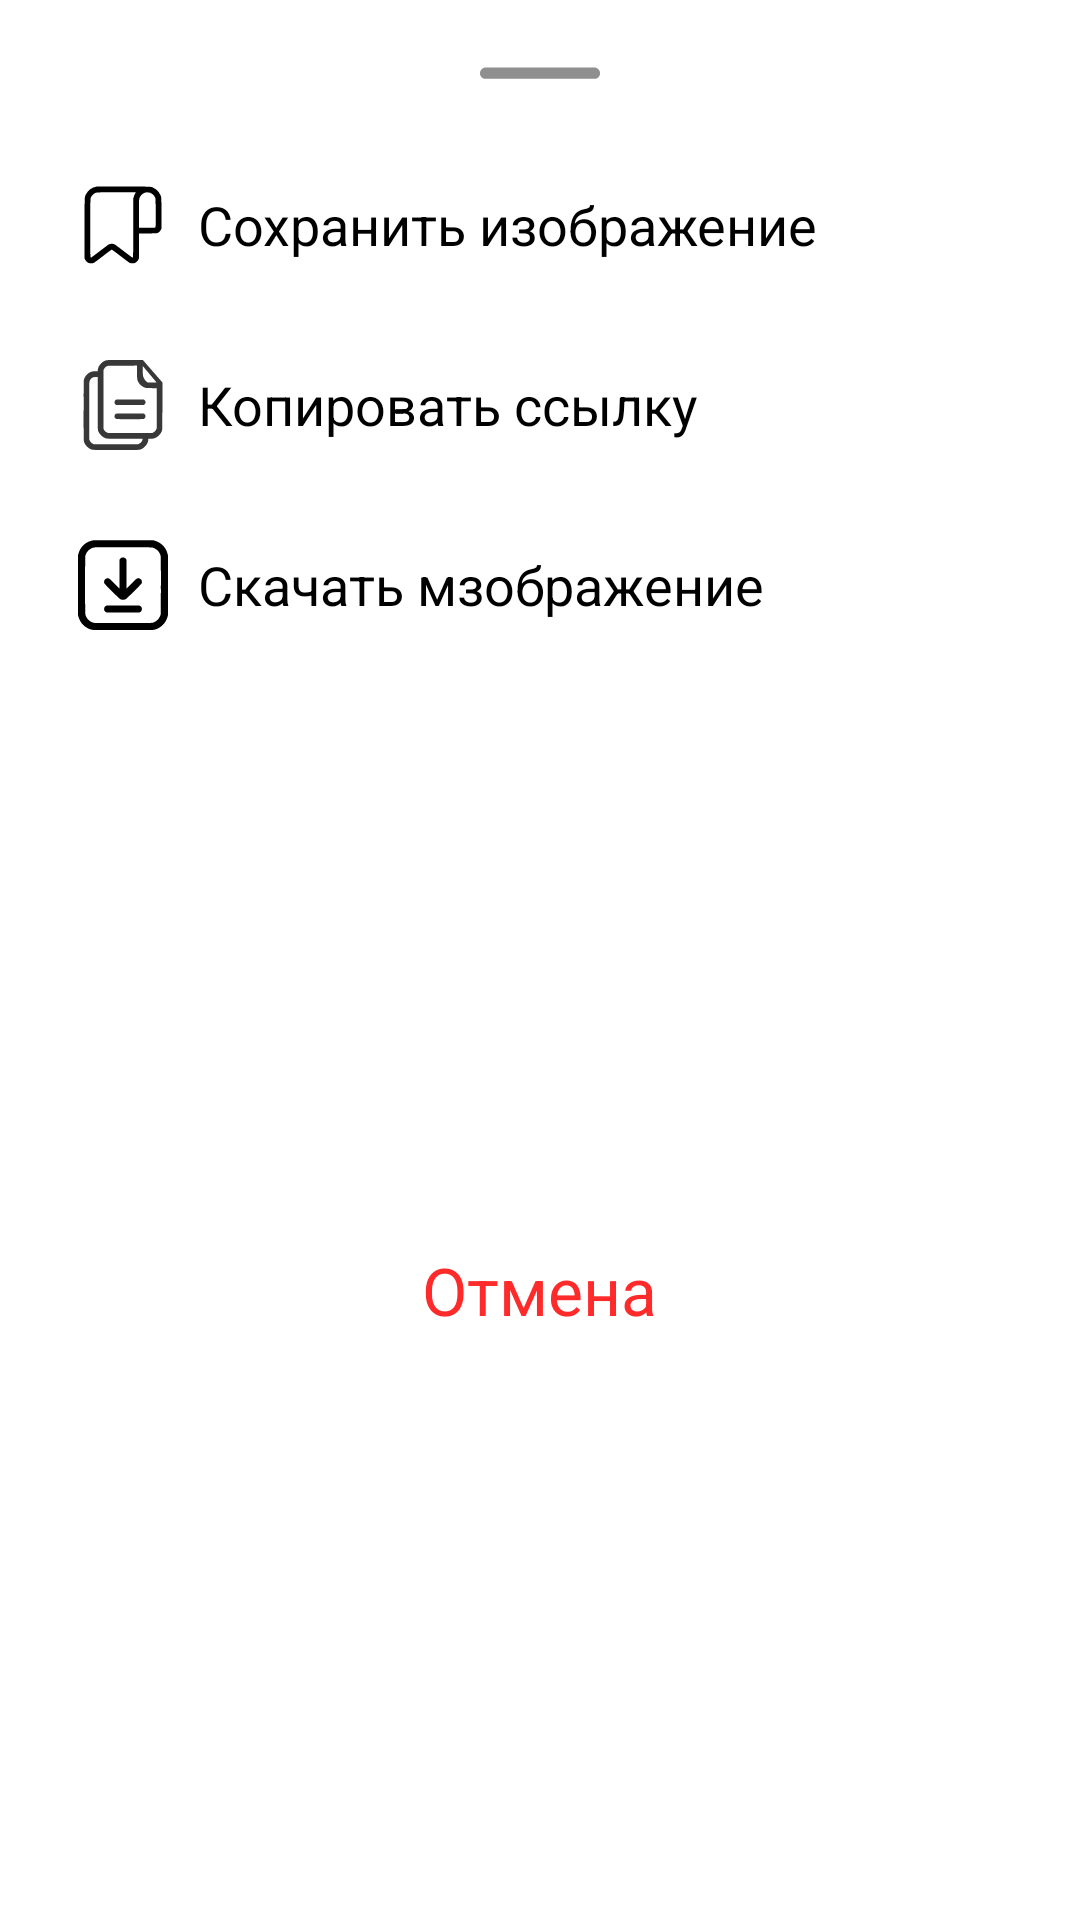

Named icons in this screenshot (1080×1920) and their centers, [x,y]:
bookmark: [123,225]
download: [123,585]
